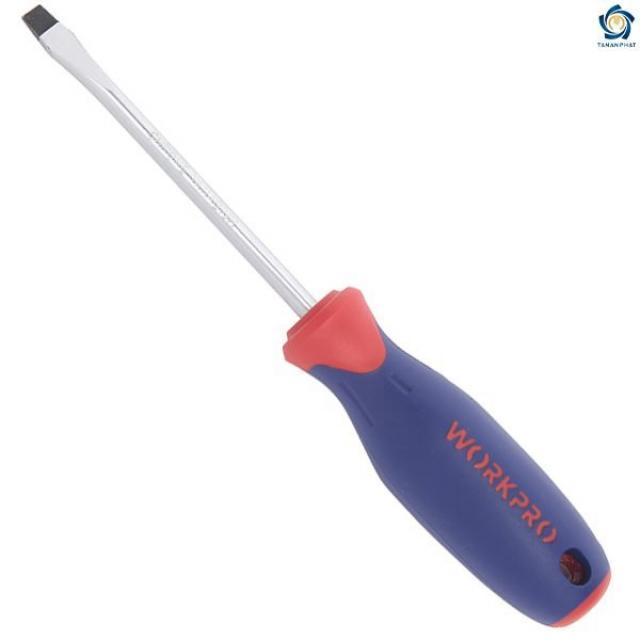screwdriver: (16, 0, 613, 626)
